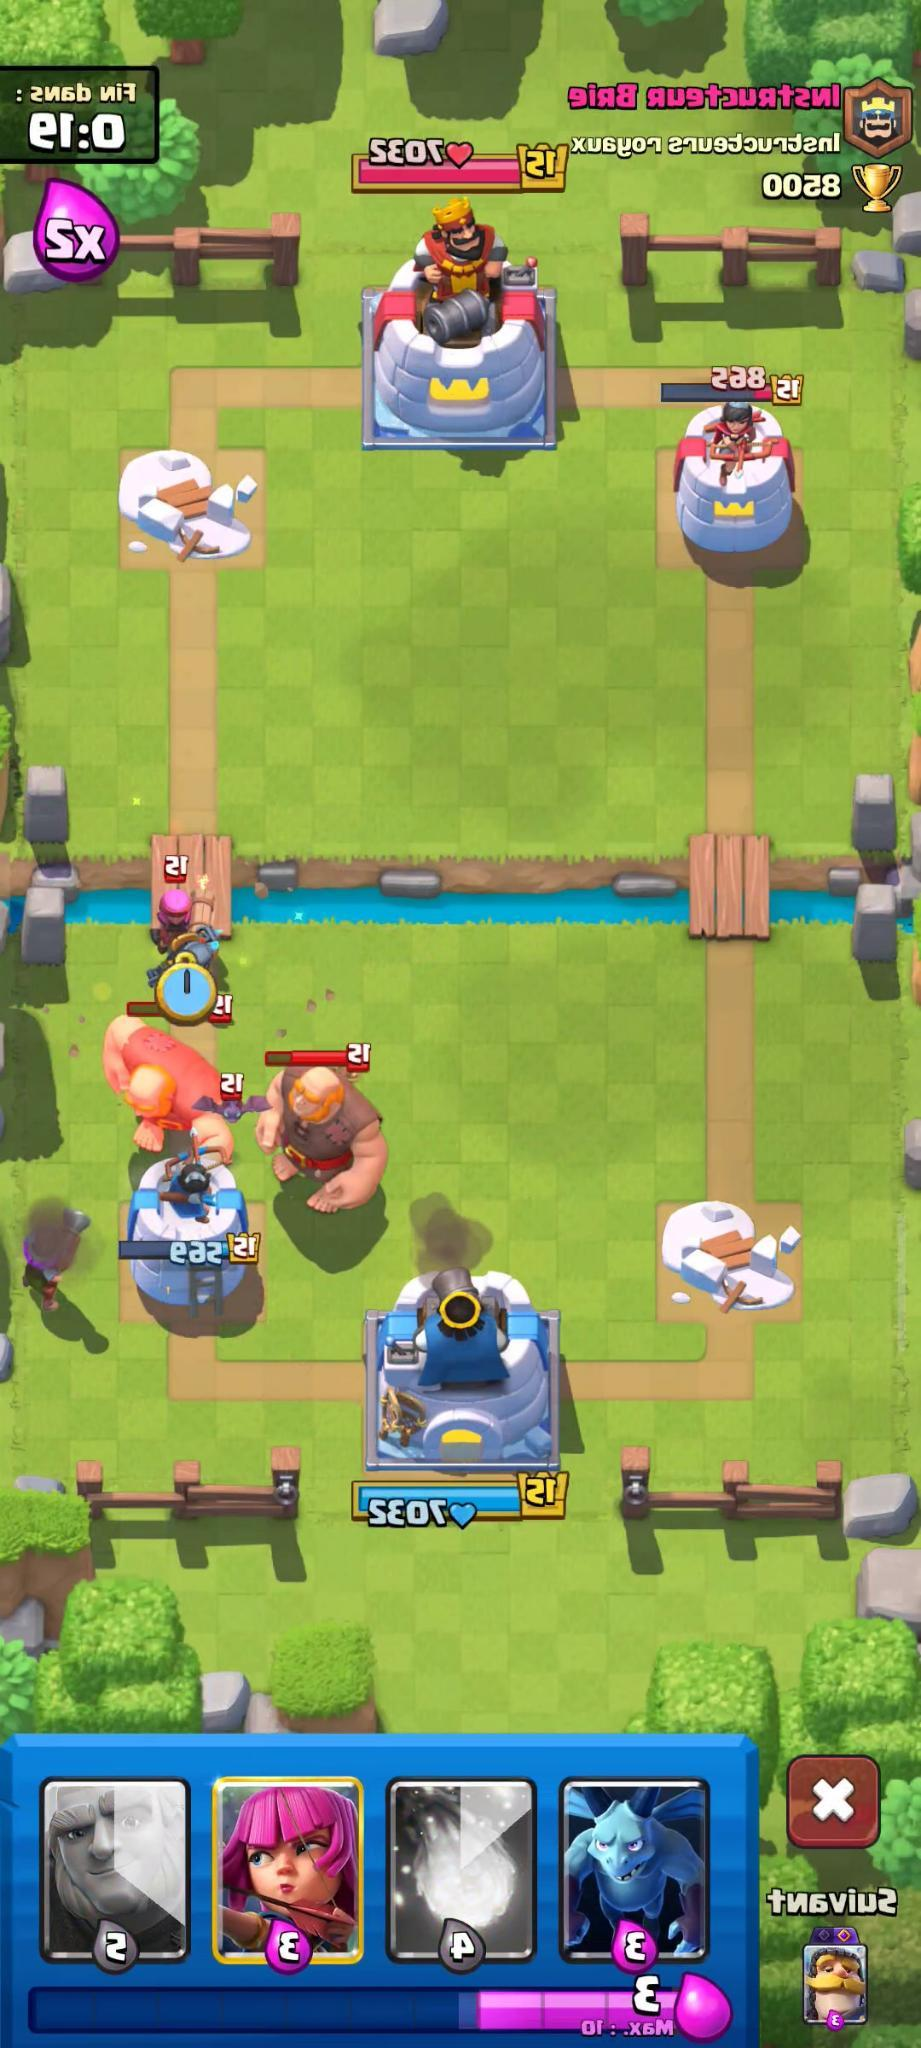enemy_bats: (187, 1070, 276, 1125)
enemy_firecracker: (142, 853, 223, 951)
enemy_giant: (99, 994, 237, 1173), (253, 1042, 393, 1218)
player_mini_pekka: (143, 918, 229, 989)
player_musketeer: (4, 1184, 101, 1317)
